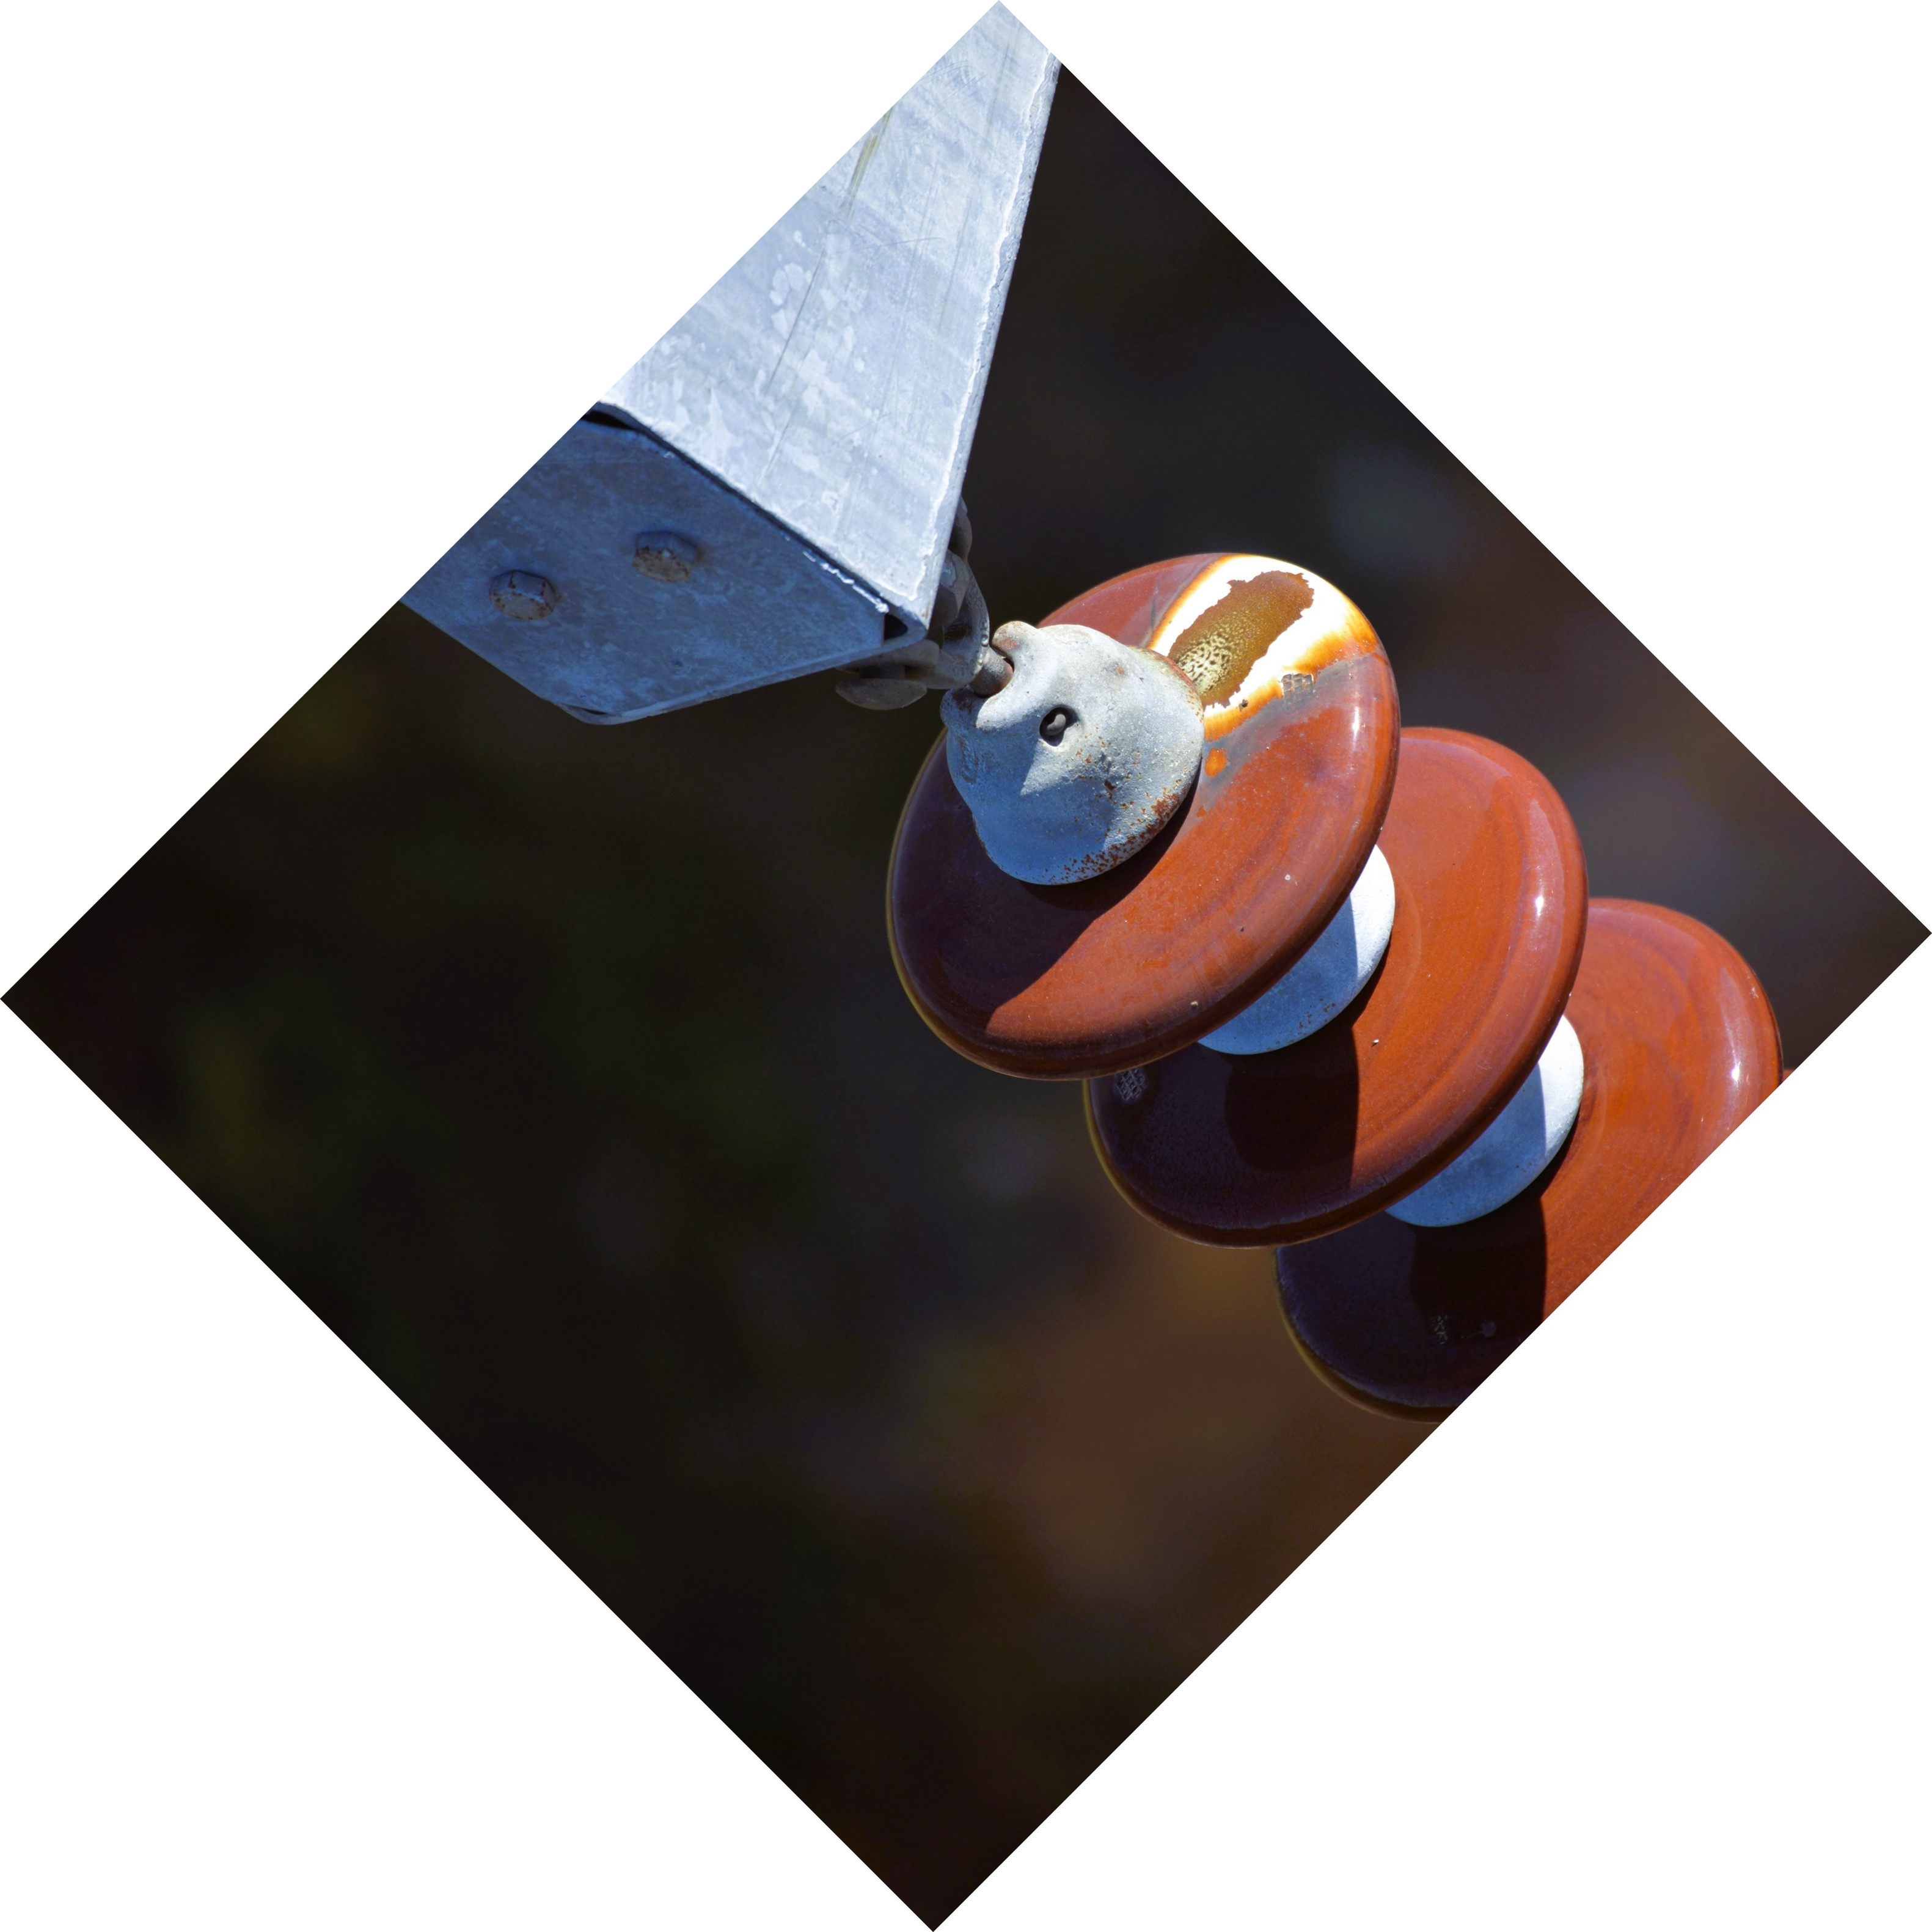Insulator flashover: (833, 467, 1419, 1100)
